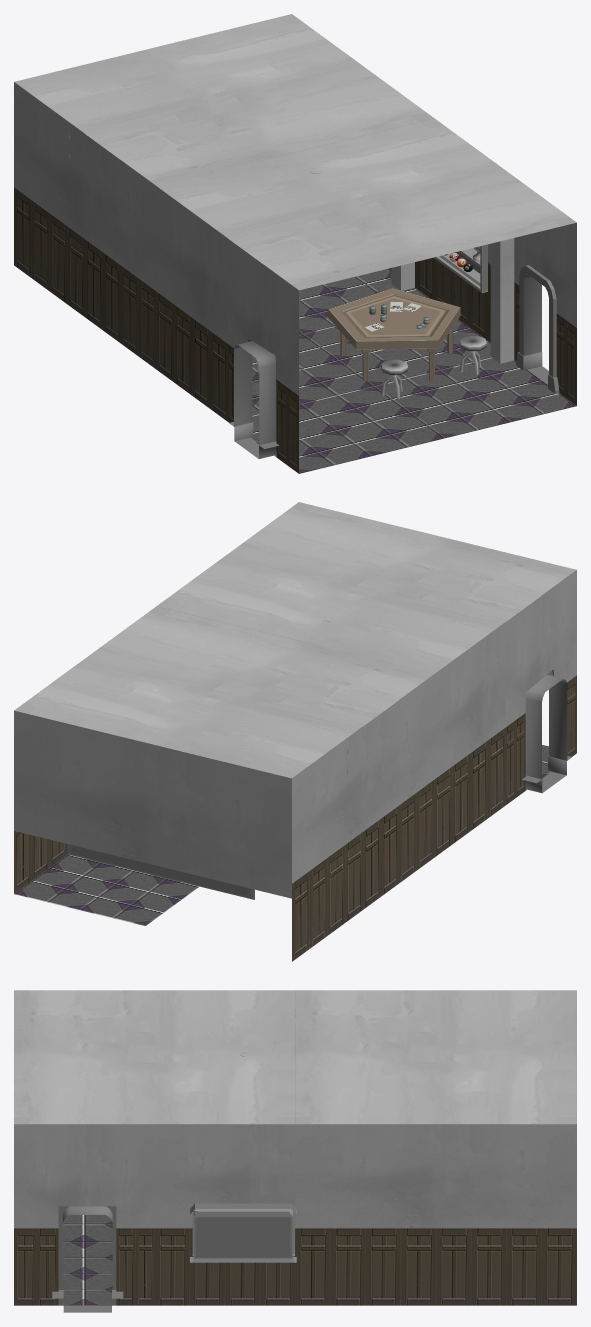
The model's file is MSH_Game_room_L3_R1_optimized.fbx.
The picture shows the model from 3 angles, top to bottom: view 1: azimuth 30°, elevation 25°; view 2: azimuth 150°, elevation 25°; view 3: azimuth 270°, elevation 25°; orthographic projection.
Visible parts, largest first — view 1: lightmap1, lightmap-1; view 2: lightmap1, lightmap-1; view 3: lightmap1, lightmap-1.
Part boxes in pixels (<box>): lightmap1: <box>14,14,576,473</box>; lightmap-1: <box>234,274,548,458</box>; lightmap1: <box>14,502,576,961</box>; lightmap-1: <box>525,674,567,793</box>; lightmap1: <box>14,990,576,1305</box>; lightmap-1: <box>63,1206,112,1312</box>.
Bounding box in the file's own units: 10.3 × 5.9 × 16.51.
Materials: 6 (5 with a texture image).
